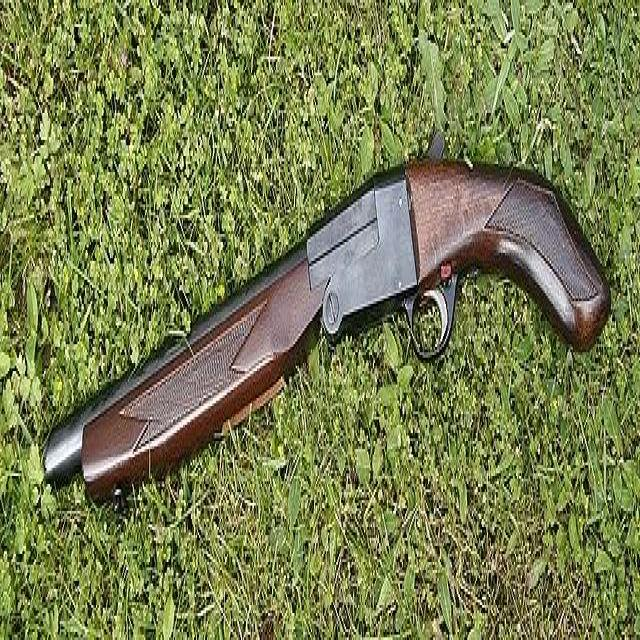weapon: (36, 129, 614, 522)
